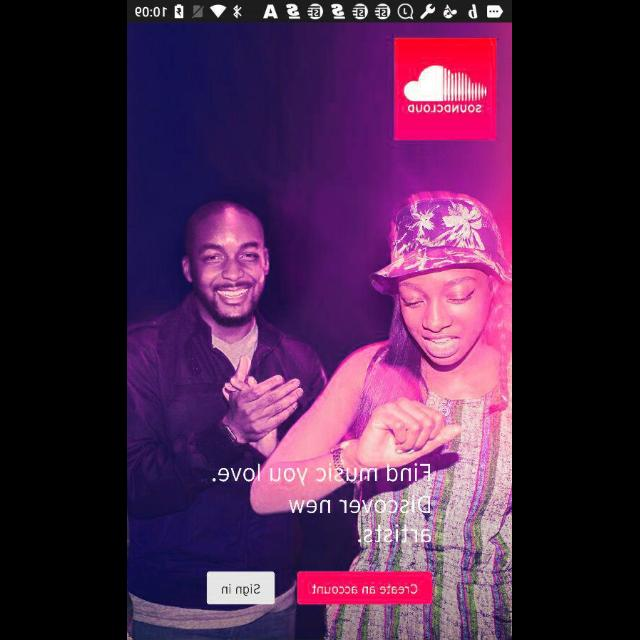backgroundimage: (128, 24, 512, 640)
image: (395, 39, 497, 141)
text: (213, 462, 432, 544)
textbutton: (298, 572, 432, 604), (207, 572, 275, 604)
uppertaskbar: (128, 1, 512, 23)
